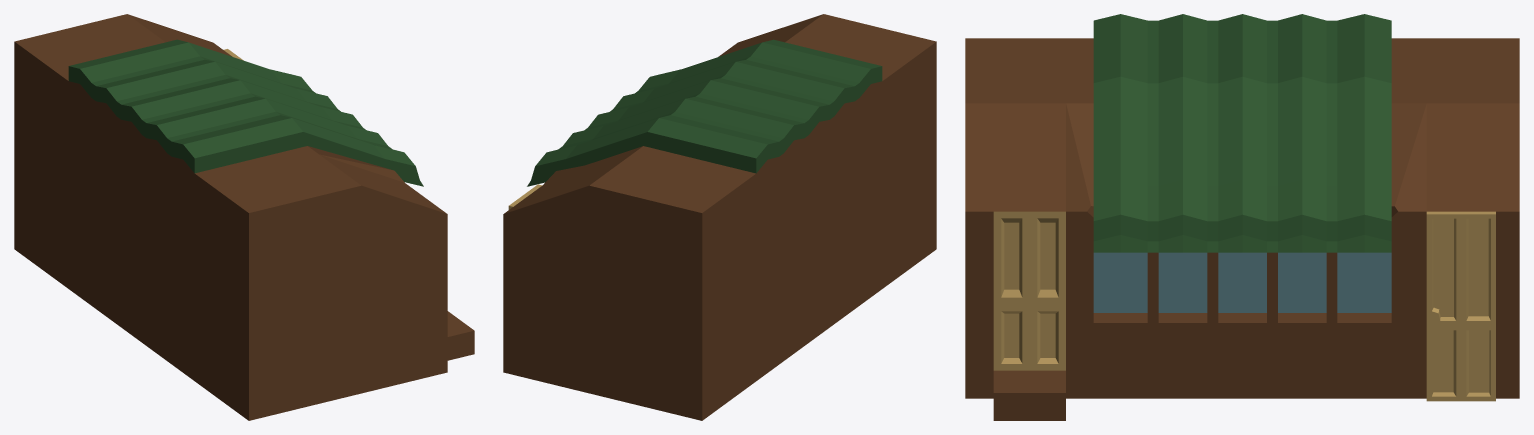
Rendered from Store3b.fbx.
3 views of the same model, side by side, from view 1: azimuth 30°, elevation 25°; view 2: azimuth 150°, elevation 25°; view 3: azimuth 270°, elevation 25° (orthographic). The views are drawn at different scales.
Parts seen in each view (by area): view 1: Store3b; view 2: Store3b; view 3: Store3b.
Part boxes in pixels (bbox=[...]): Store3b: bbox=[14, 14, 474, 420]; Store3b: bbox=[503, 14, 936, 420]; Store3b: bbox=[965, 14, 1519, 420].
Size of the model in its own units: 239 by 220 by 409.
